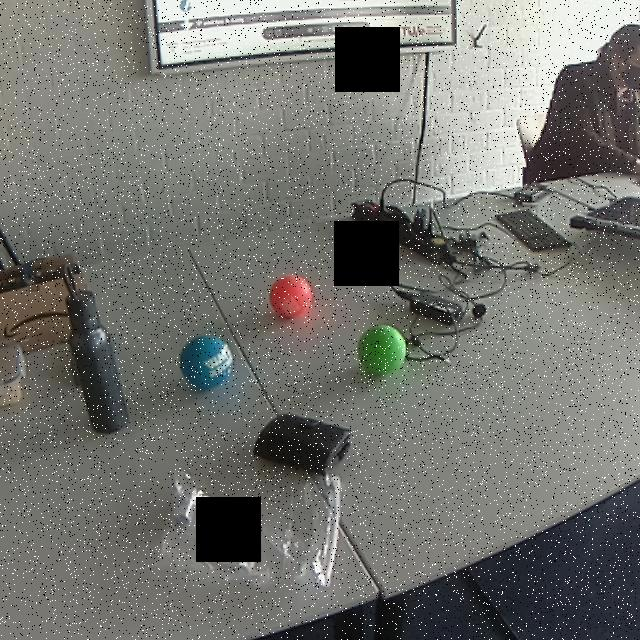ball: (177, 333, 236, 390), (354, 323, 410, 378), (268, 274, 314, 320)
